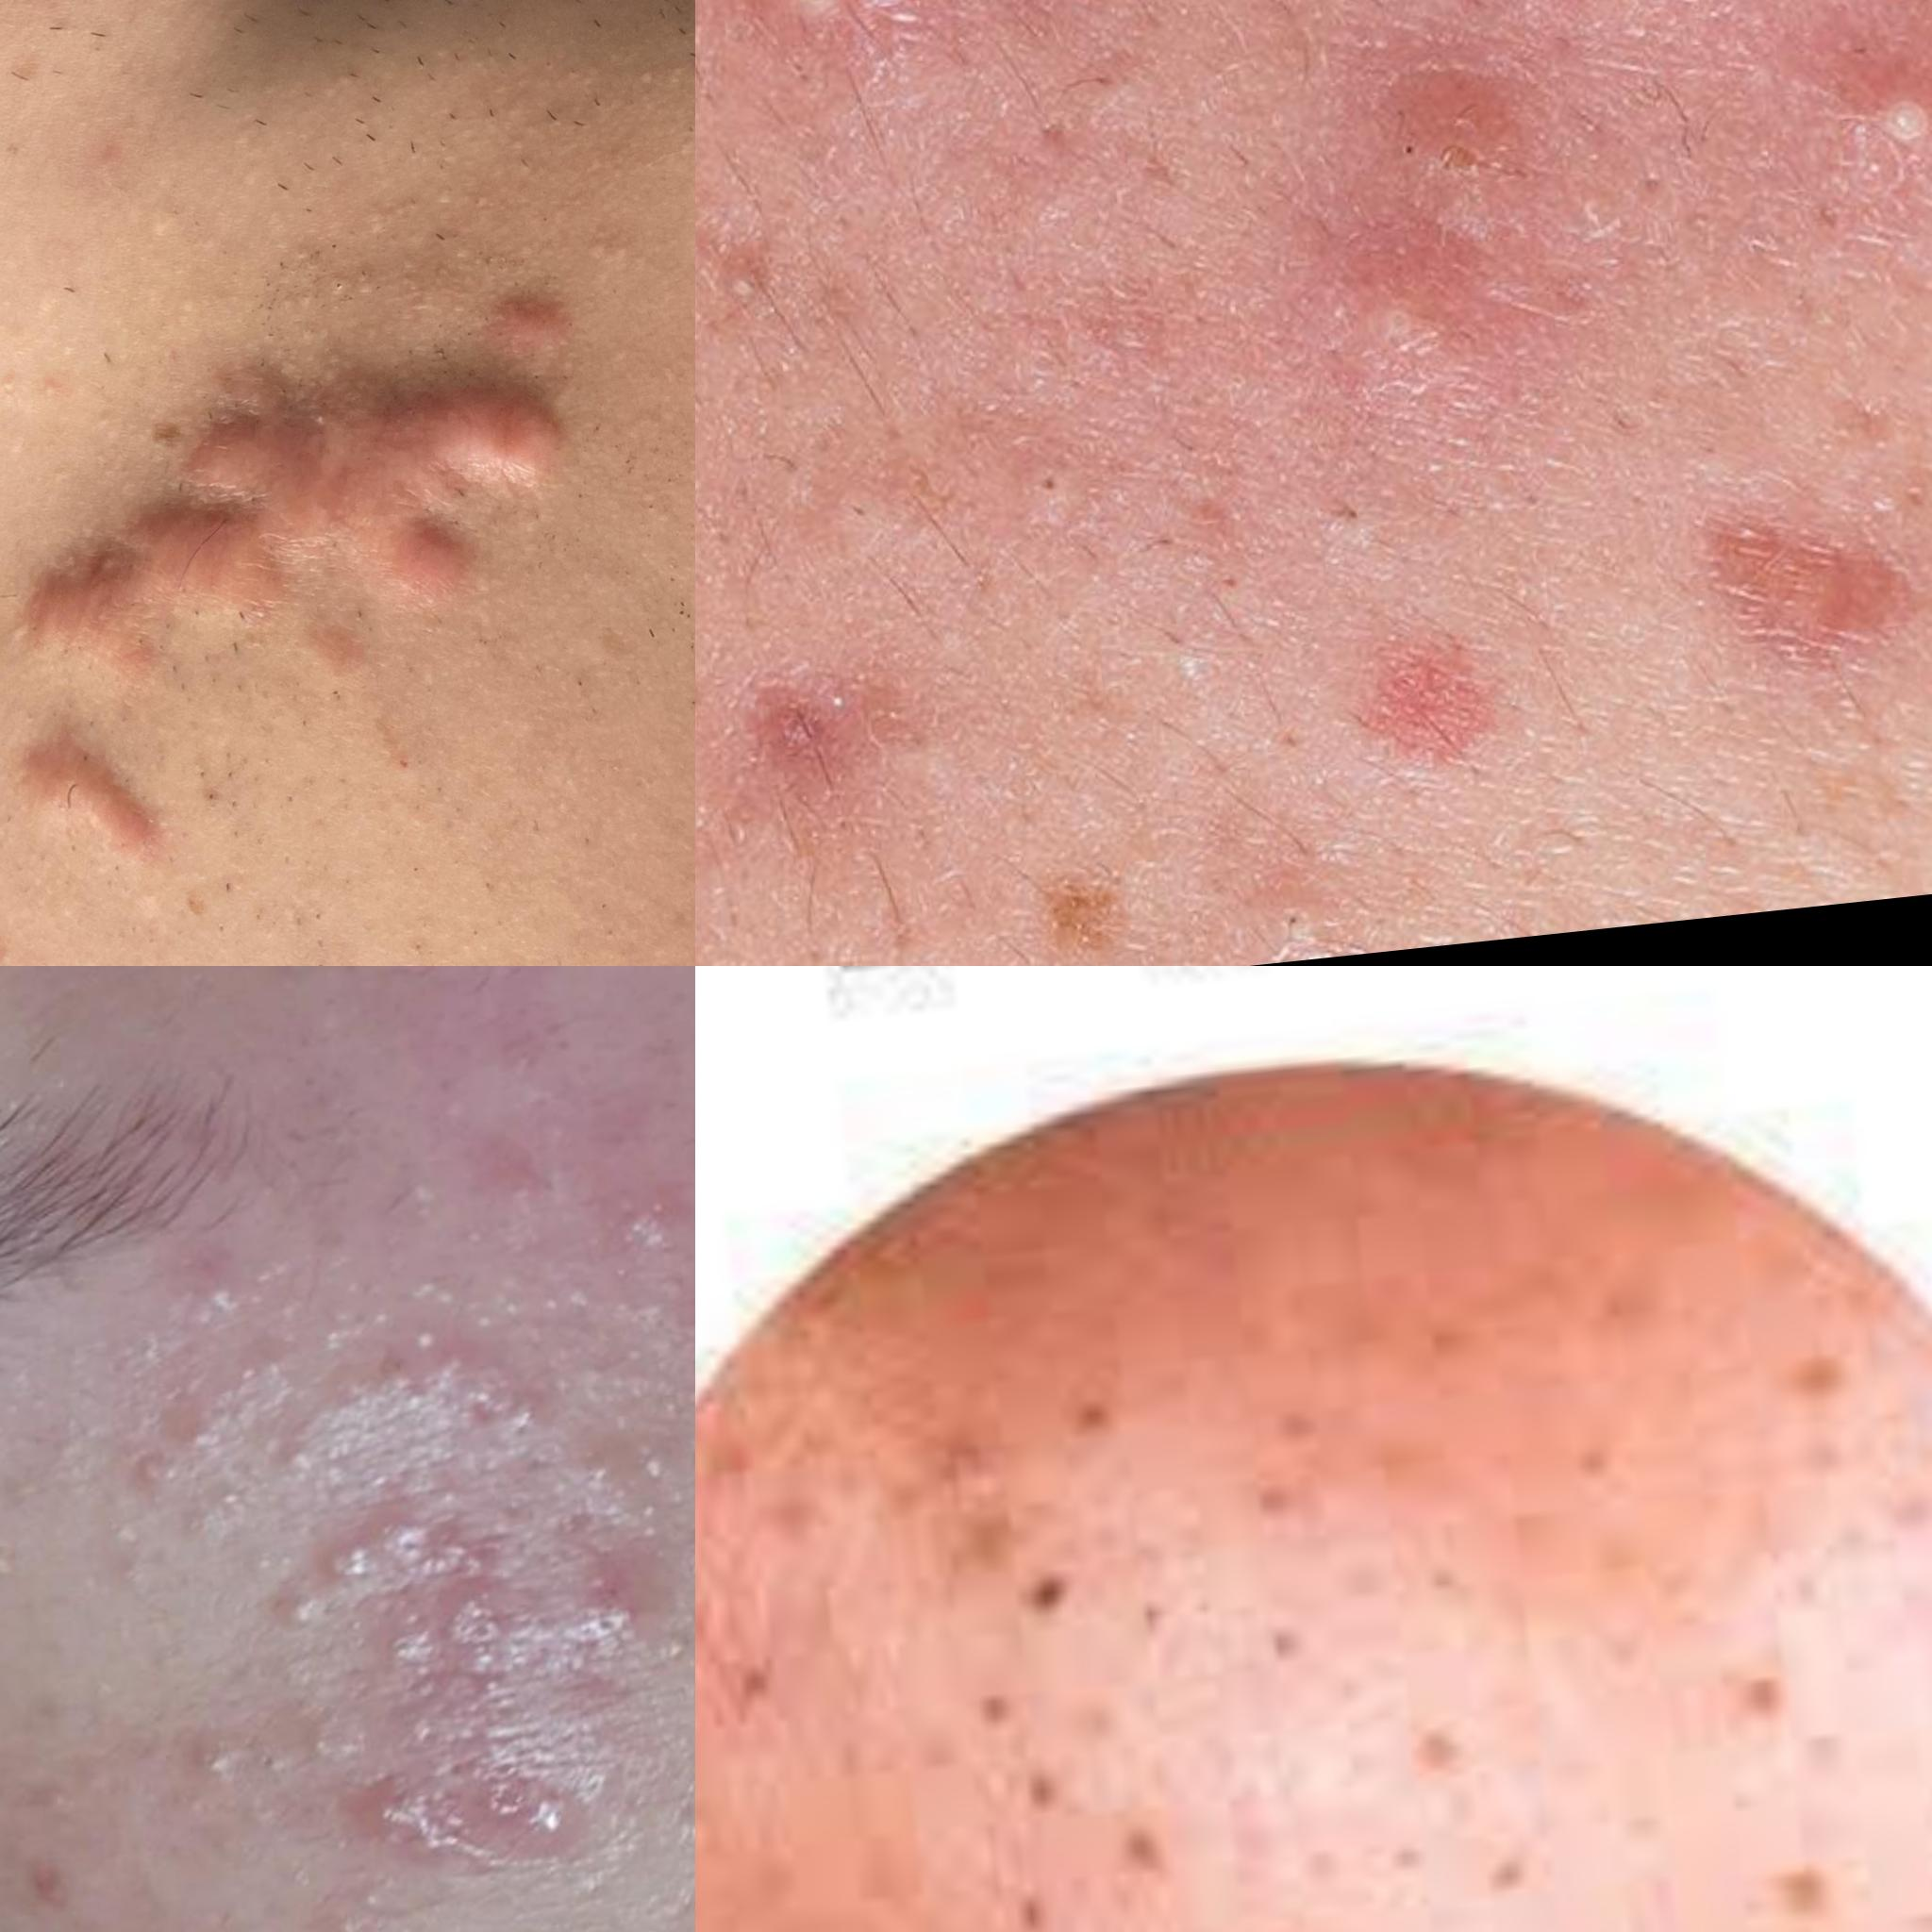acne_scars: (1644, 405, 1932, 711)
blackhead: (959, 1683, 1240, 1932), (1207, 1330, 1430, 1539), (152, 1690, 324, 1879), (1675, 1585, 1854, 1752), (984, 1467, 1113, 1674), (1380, 1637, 1529, 1806), (1730, 1813, 1932, 1932)
keloid: (2, 281, 628, 697), (2, 717, 179, 879)
purulent: (359, 1746, 594, 1897), (1822, 18, 1932, 234), (1493, 2, 1783, 48)
sebo-crystan-conglo: (957, 349, 1138, 561), (702, 2, 966, 140), (1208, 832, 1401, 968), (1267, 412, 1399, 586)
whitehead: (262, 1481, 621, 1704), (341, 1261, 589, 1465), (2, 1385, 62, 1628), (161, 1253, 295, 1361)
